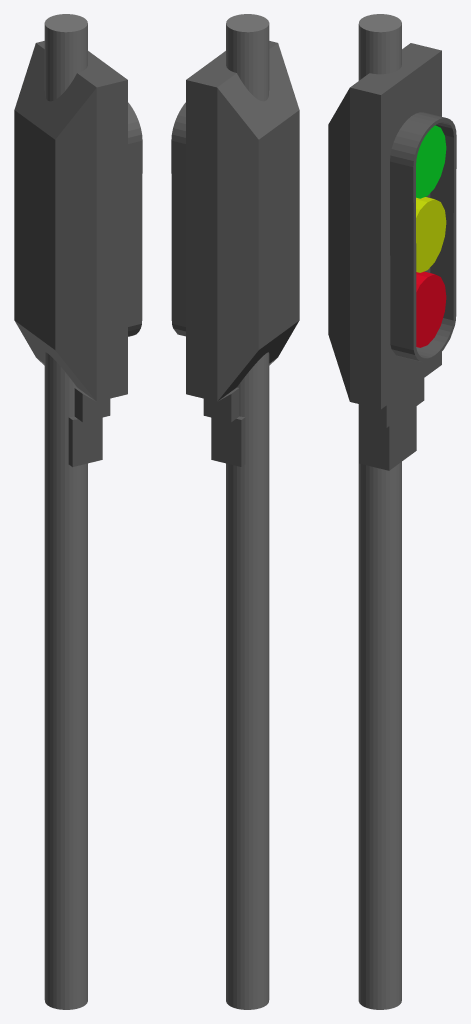
File: Signal Light.fbx
The picture shows the model from 3 angles, left to right: view 1: azimuth 30°, elevation 25°; view 2: azimuth 150°, elevation 25°; view 3: azimuth 330°, elevation 25°; orthographic projection.
Visible parts, largest first — view 1: Cube, Cylinder, Cylinder.002; view 2: Cube, Cylinder, Cylinder.002; view 3: Cube, Cylinder, Cylinder.002, Cylinder.004, Cylinder.001, Cylinder.003.
Boxes of the visible parts, box(x1,y1,x2,y2) form: Cube: box(14, 41, 127, 466); Cylinder: box(44, 14, 87, 1009); Cylinder.002: box(128, 102, 142, 336); Cube: box(186, 41, 299, 466); Cylinder: box(226, 14, 269, 1009); Cylinder.002: box(171, 102, 185, 336); Cube: box(328, 43, 441, 470); Cylinder: box(358, 14, 401, 1009); Cylinder.002: box(390, 112, 456, 362); Cylinder.004: box(416, 271, 446, 347); Cylinder.001: box(416, 197, 446, 272); Cylinder.003: box(416, 125, 446, 198).
Size of the model in its own units: 46.12 by 500 by 56.48.
